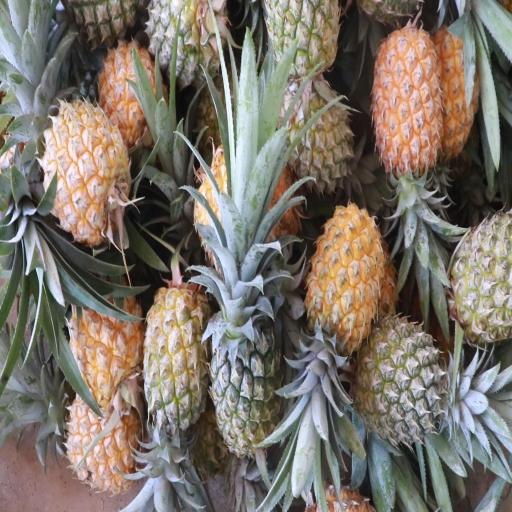------------------------------: (142, 280, 206, 452)
Pineapple - v8 v1: (309, 203, 381, 431), (372, 25, 442, 258), (38, 108, 136, 241), (67, 283, 149, 416), (97, 44, 166, 149), (436, 22, 484, 170), (67, 403, 144, 492)
